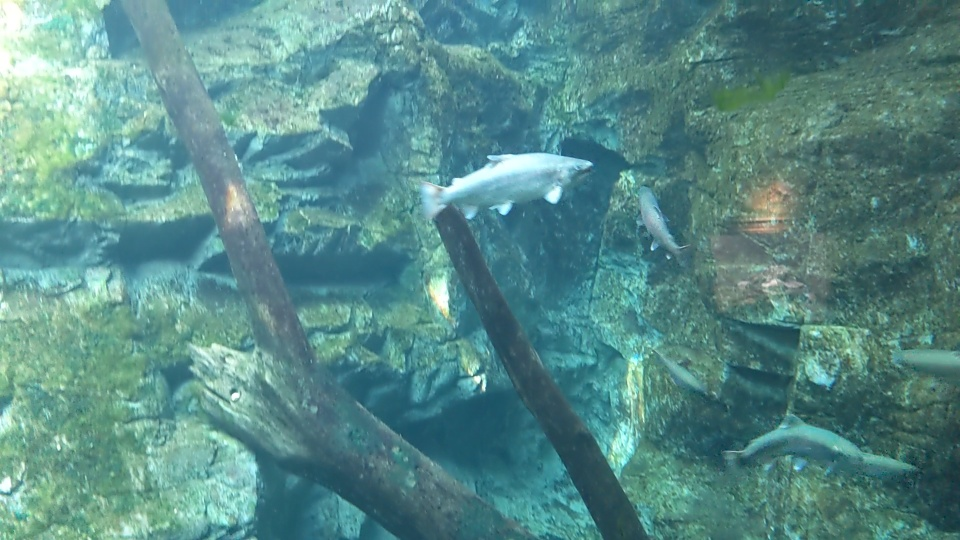Fish: (424, 143, 585, 228), (732, 417, 846, 480), (626, 173, 683, 264), (641, 335, 713, 397), (895, 342, 960, 392), (841, 456, 910, 482)
